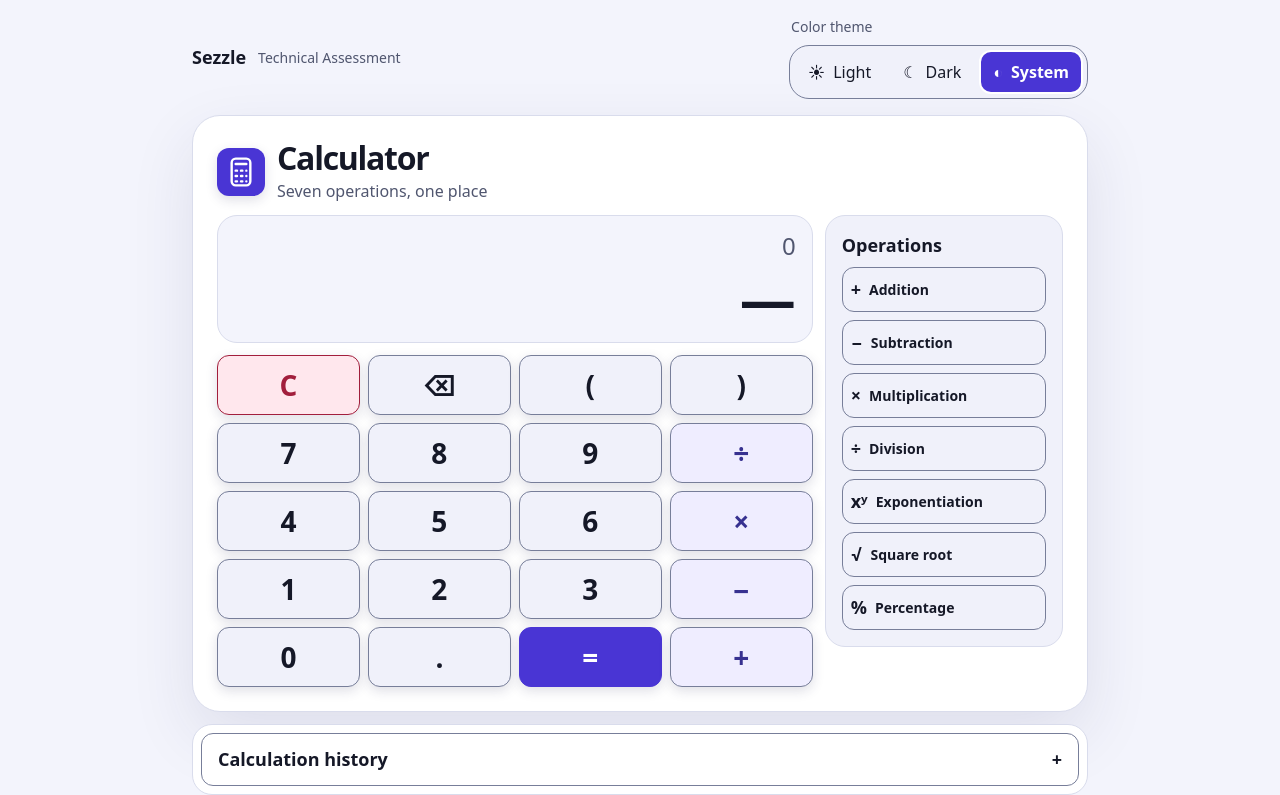
Test: functional calculator integration › evaluates once with Enter after interacting with Equals
This screenshot has width=1280, height=795.
Step 1. Click the button named "Equals" → (590, 657), box [519,627,662,687]
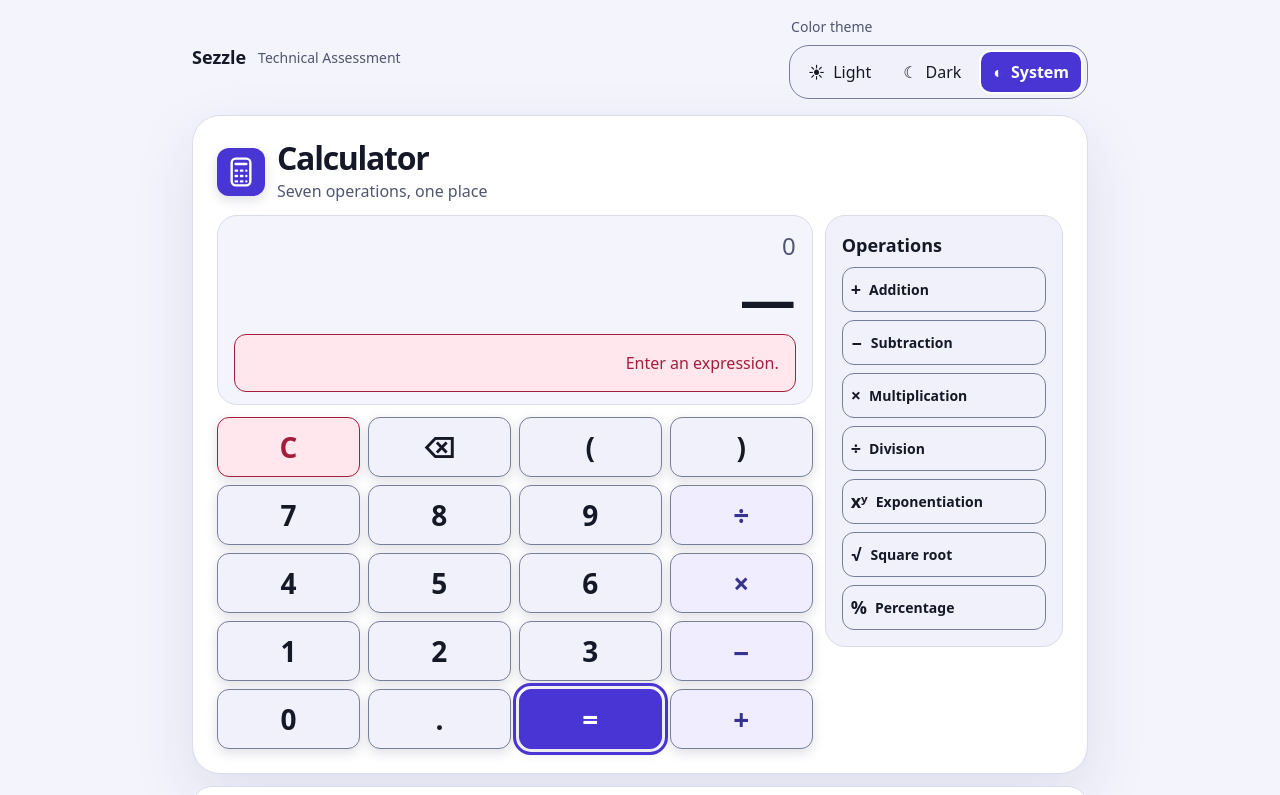
Note: Escape edits the expression without moving focus off the clicked button.
Step 2. Type keys "{Escape}(2+3)*4"
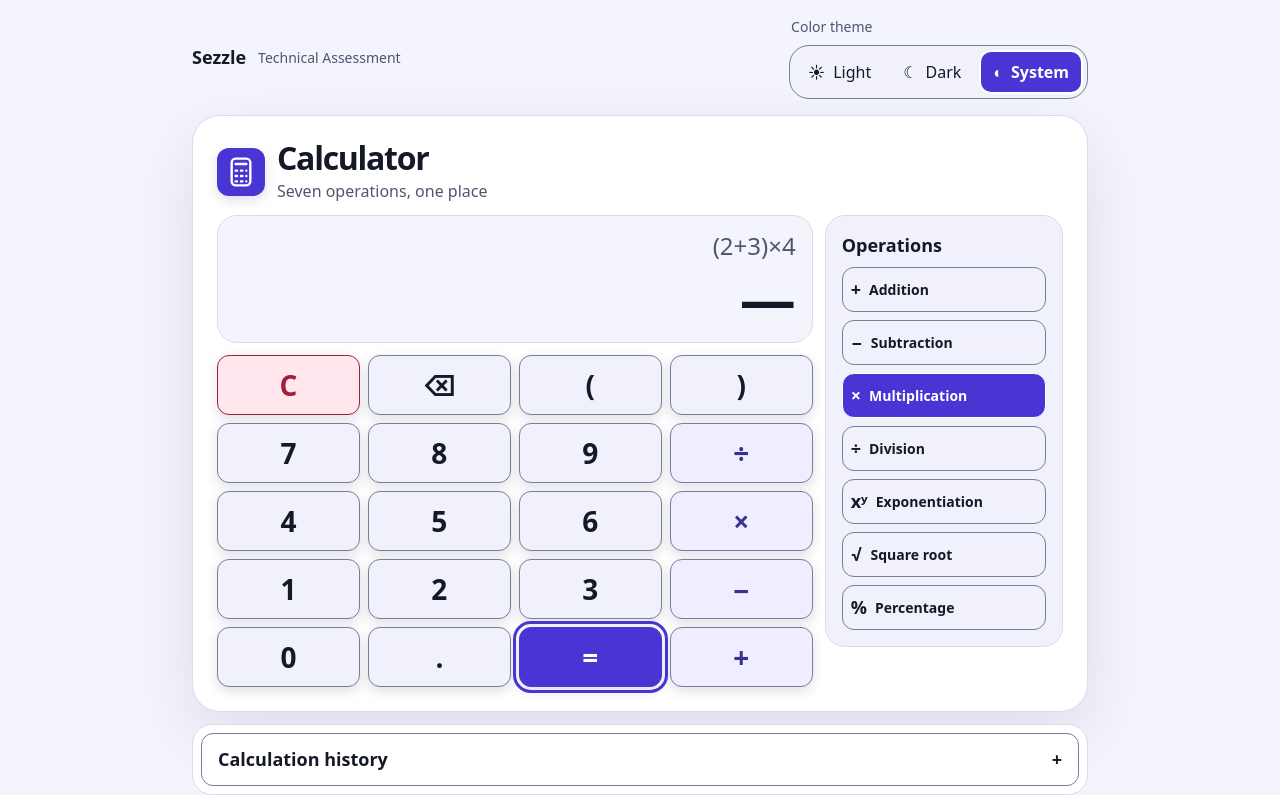
Expected: the text with test id "calculator-expression" reads "(2+3)×4", [713,229,796,262]
Step 3. Press Enter
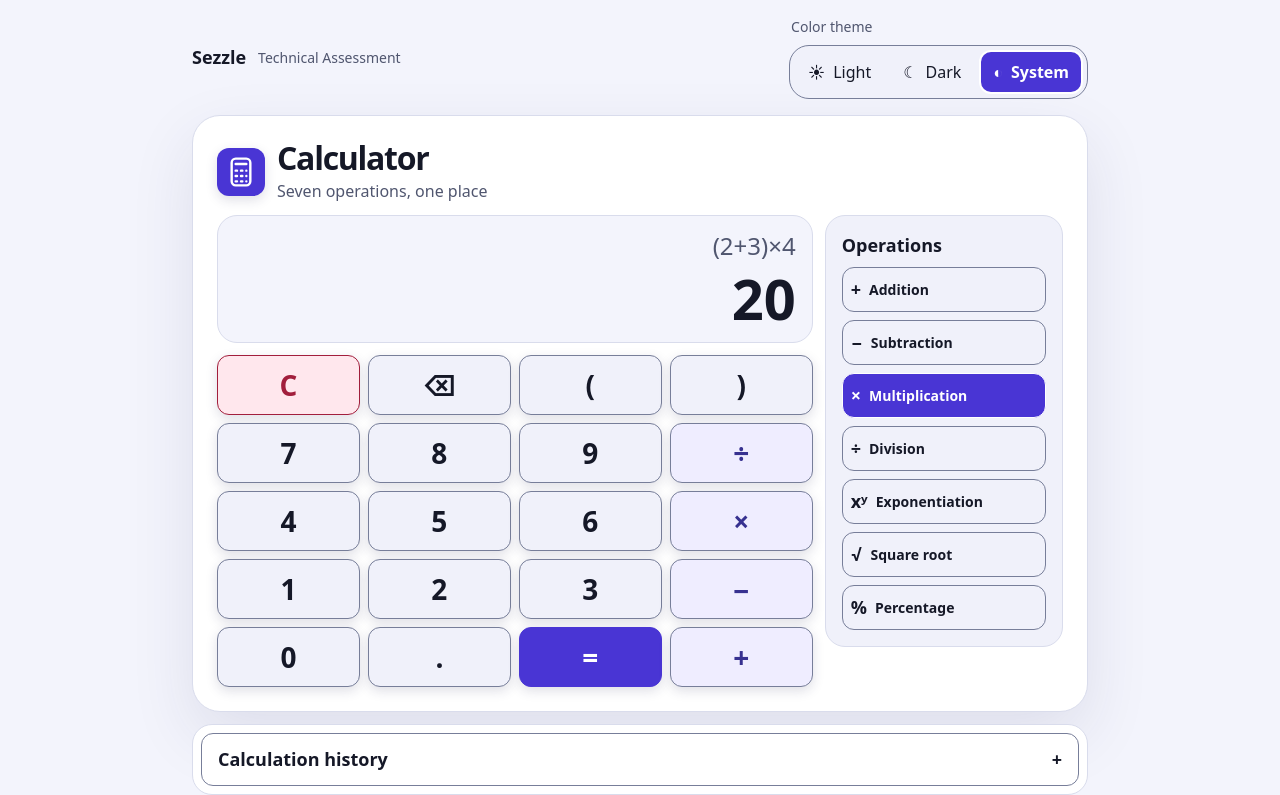
Expected: the text with test id "calculator-expression" reads "(2+3)×4", [713,229,796,262]
Expected: the text with test id "calculator-result" reads "20", [732,260,796,336]
